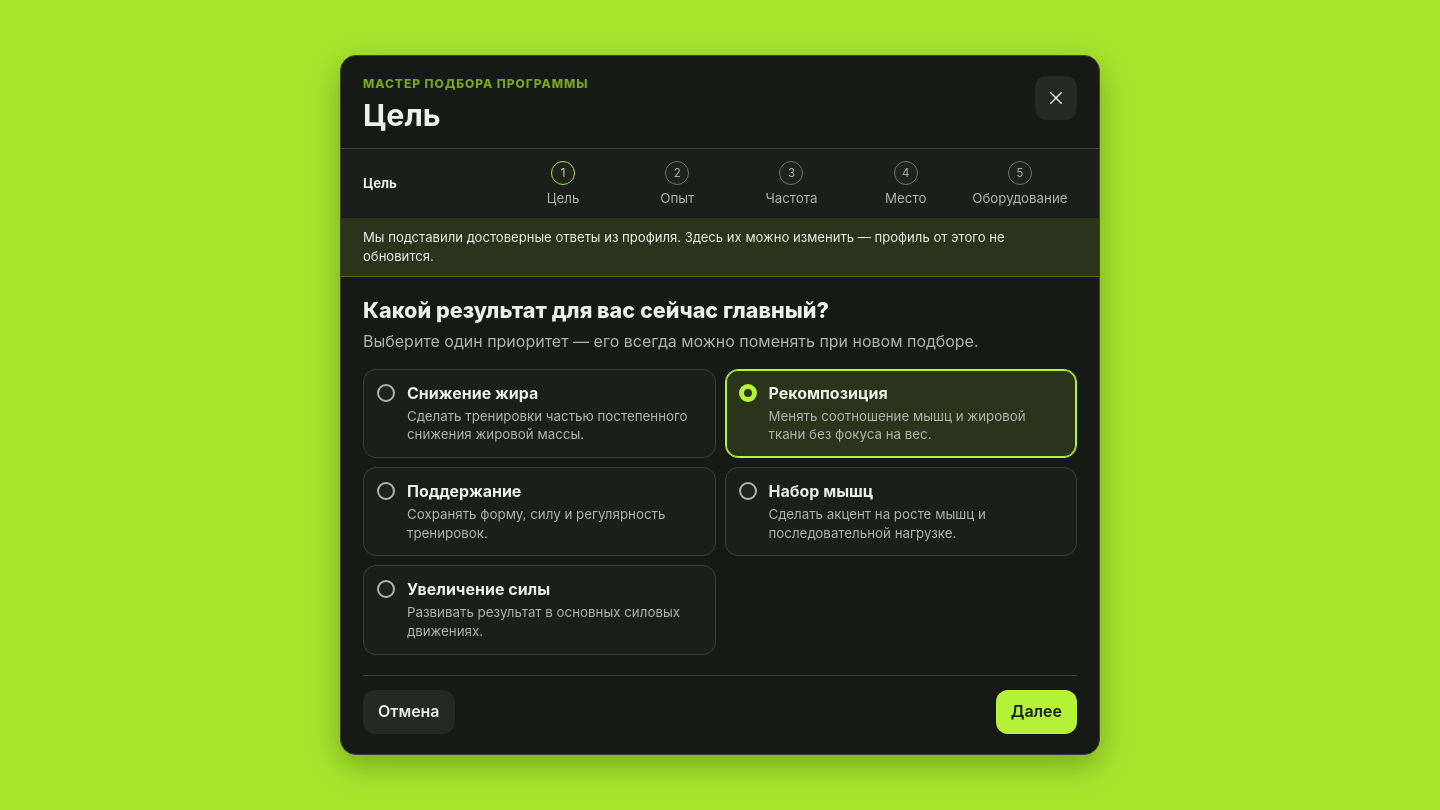
Scenario: ProgramRecommendation wizard › requires a location choice for multiple profiles and switches to its equipment
Click the button "Далее".
click(1036, 712)  # box [996, 690, 1077, 734]
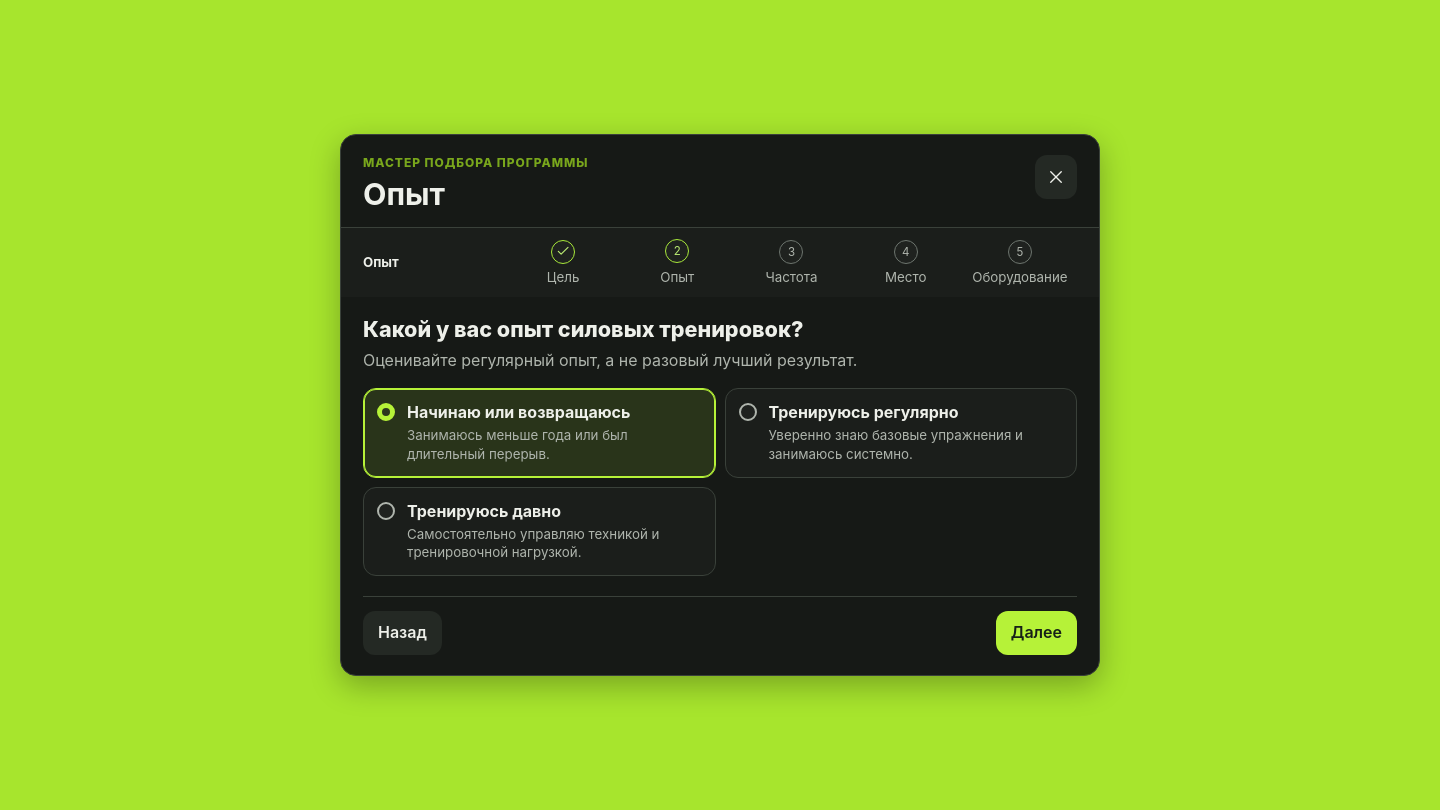
Click the button "Далее".
click(1036, 633)  # box [996, 611, 1077, 655]
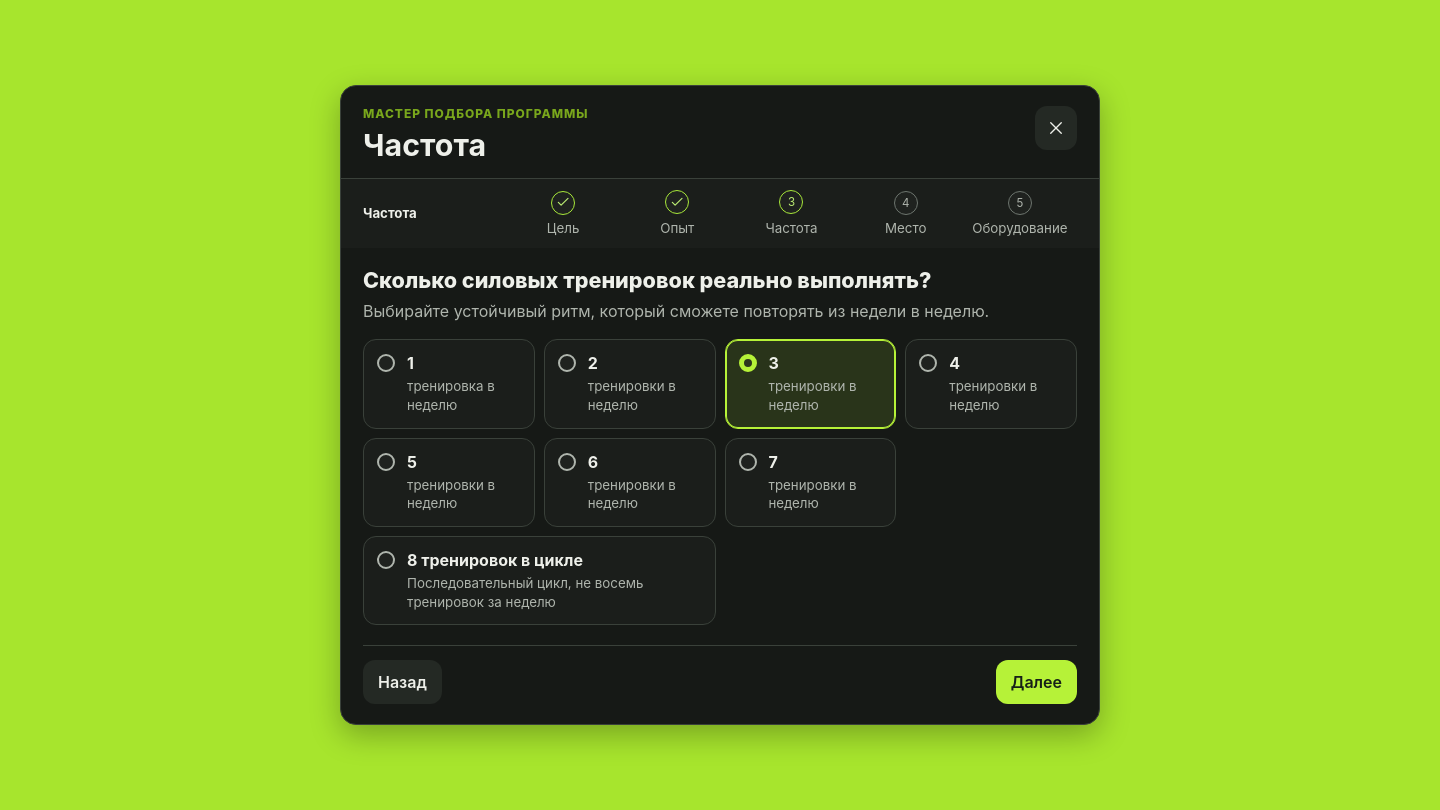
Click the button "Далее".
click(1036, 682)  # box [996, 660, 1077, 704]
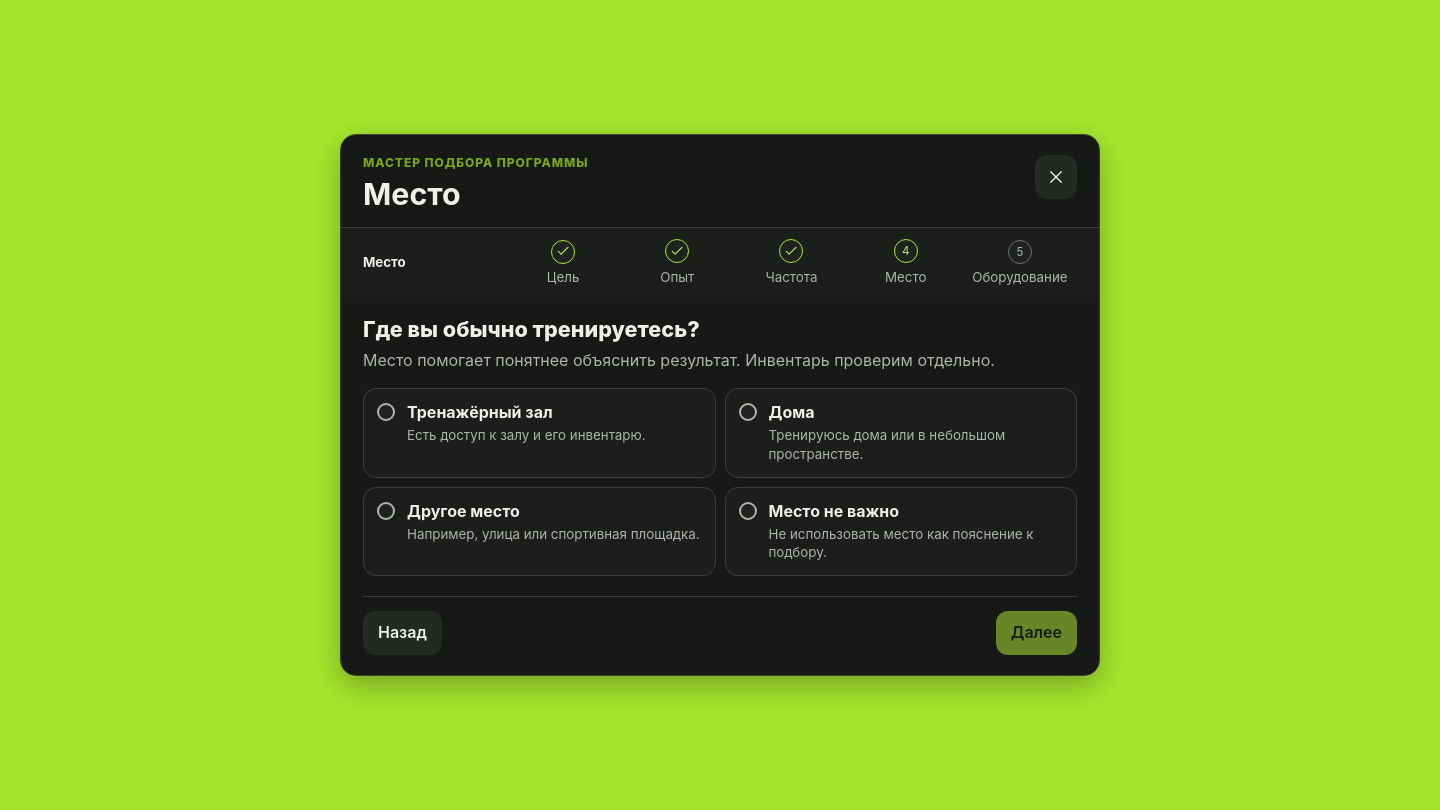
Check: the radio button labelled "Тренажёрный зал Есть доступ к залу и его инвентарю." is not checked, box [363, 388, 716, 478]
Check: the radio button labelled "Дома Тренируюсь дома или в небольшом пространстве." is not checked
Click the radio button labelled "Дома Тренируюсь дома или в небольшом пространстве.".
click(901, 433)  # box [724, 388, 1077, 478]
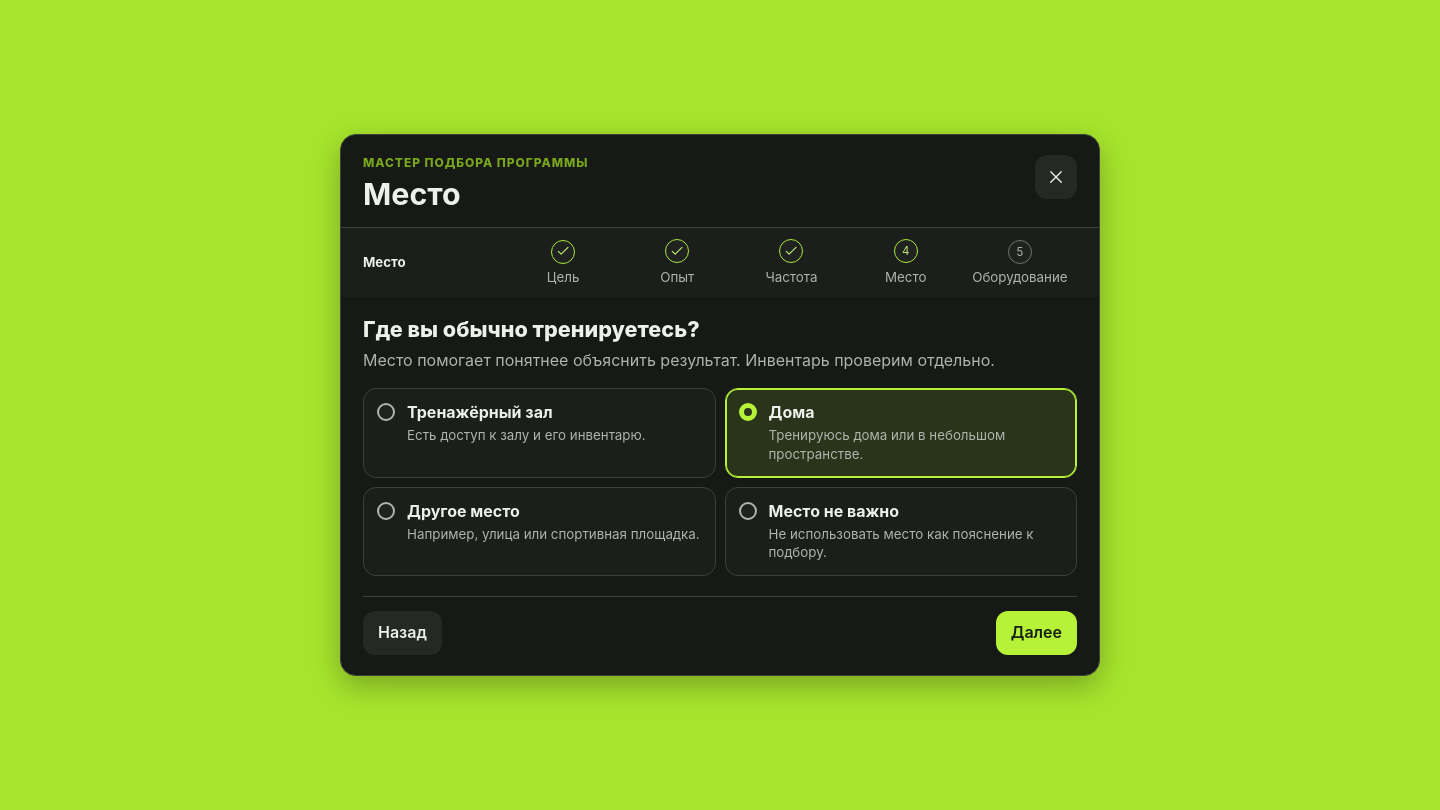
Click the button "Далее".
click(1036, 633)  # box [996, 611, 1077, 655]
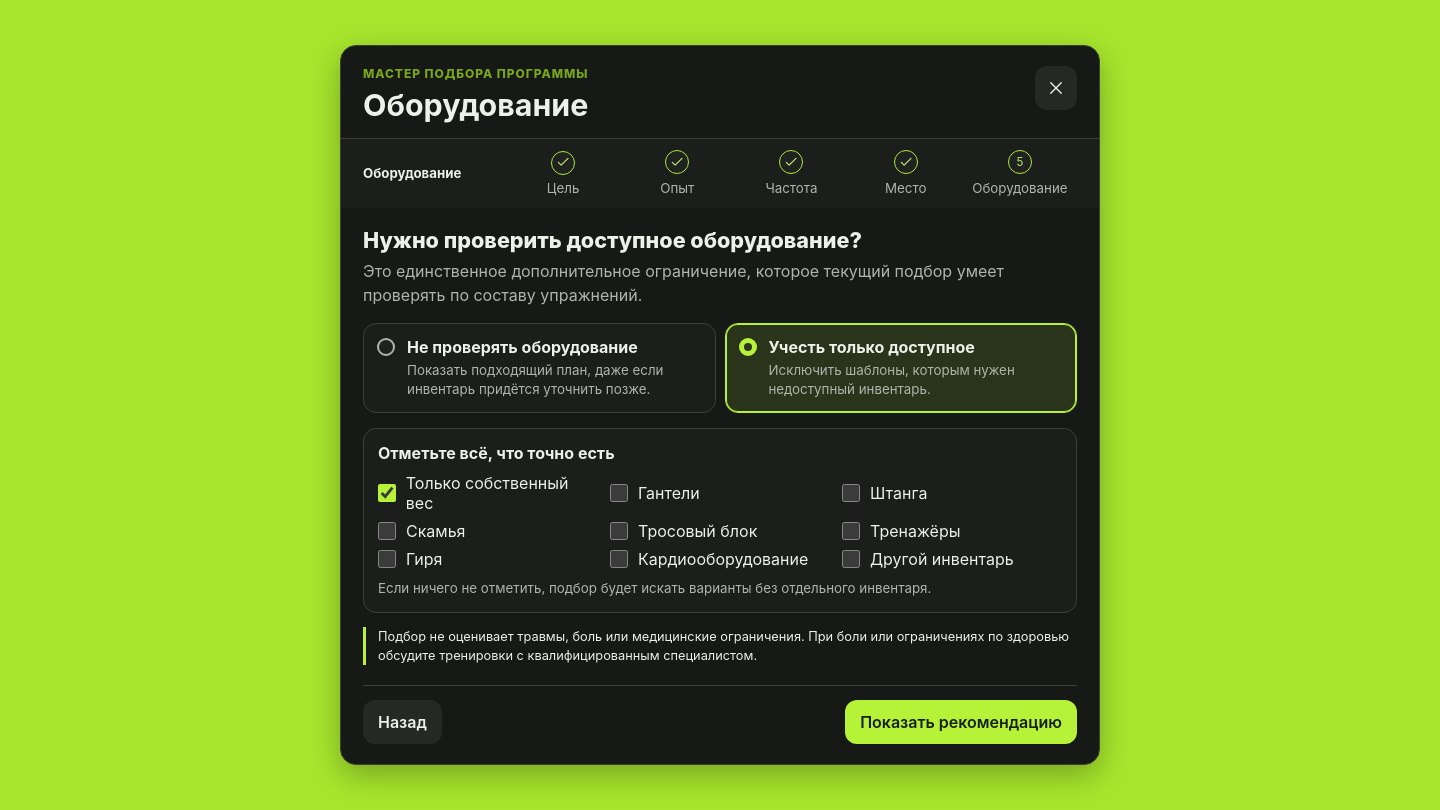
Check: the radio button labelled "Учесть только доступное" is checked, box [724, 323, 1077, 412]
Check: the checkbox labelled "Только собственный вес" is checked, box [378, 484, 396, 502]
Check: the checkbox labelled "Гантели" is not checked, box [610, 484, 628, 502]
Click the button "Показать рекомендацию".
click(961, 722)  # box [845, 700, 1077, 744]
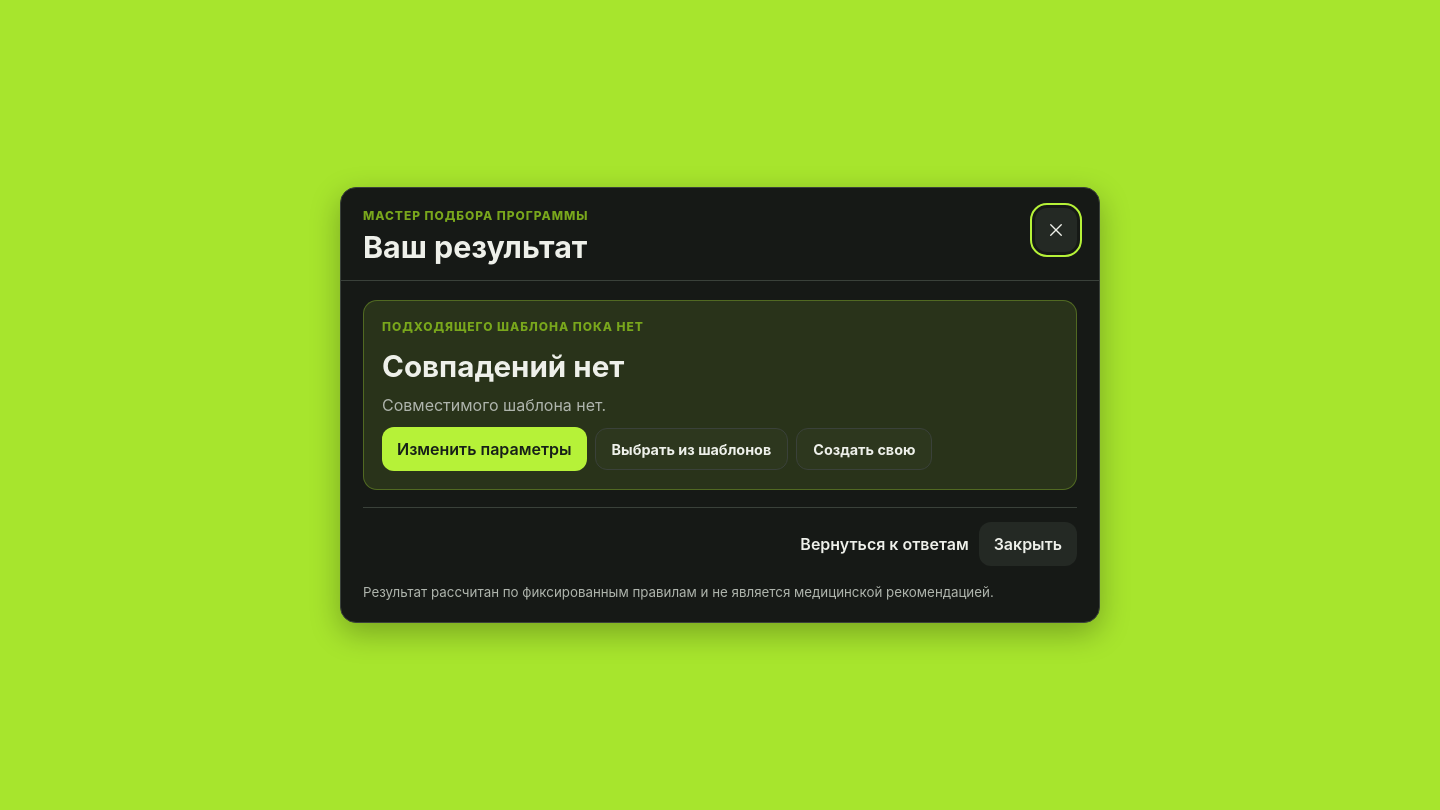
Check: the heading "Совпадений нет" is shown, box [382, 350, 624, 383]
